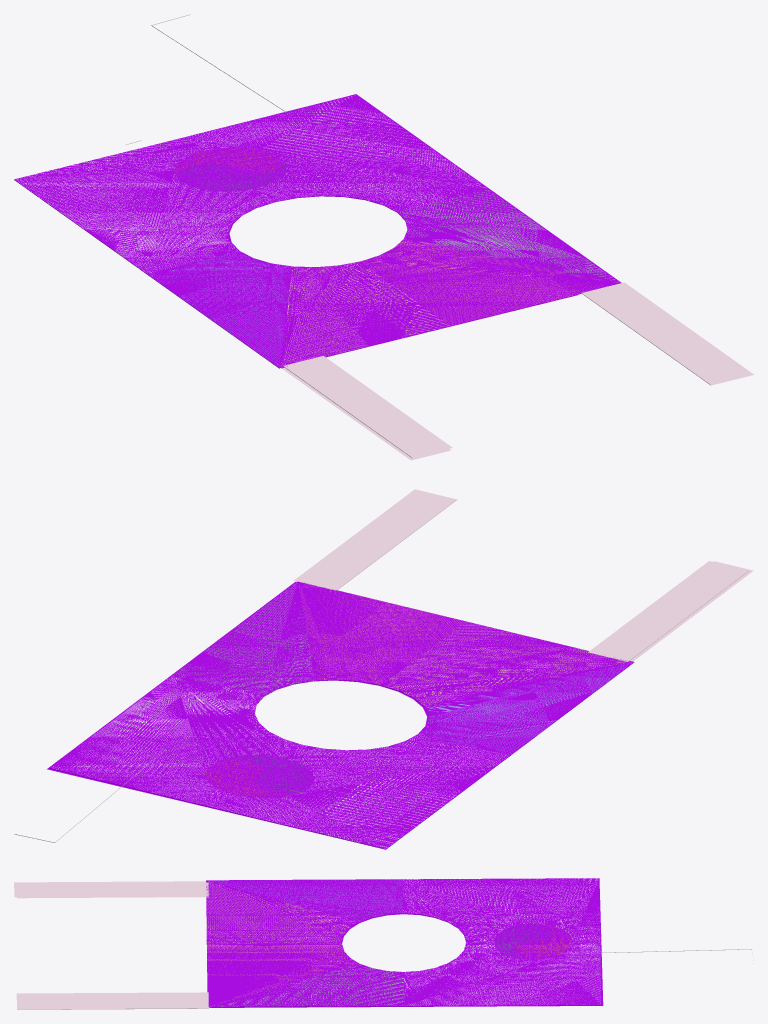
The model's file is kite_8.dae.
3 views of the same model, one above another, from view 1: azimuth 30°, elevation 25°; view 2: azimuth 150°, elevation 25°; view 3: azimuth 270°, elevation 25° (orthographic). The views are drawn at different scales.
Visible parts, largest first — view 1: Body.005, Body, Body.008, Body.006, Body.004, group_2, group_0.002, Body.003, group_3, SketchUp.001; view 2: Body.005, Body, Body.008, Body.004, Body.006, group_2, group_0.002, group_3, Body.003, SketchUp.001, Body.001; view 3: Body.005, Body.008, Body, Body.006, Body.004, group_2, group_0.002, Body.003, group_3, SketchUp.001, Body.001, SketchUp.002.
Boxes of the visible parts, left/top/right/bottom form: Body.005: left=14, top=95, right=488, bottom=273; Body: left=360, top=239, right=619, bottom=325; Body.008: left=279, top=261, right=449, bottom=367; Body.006: left=397, top=189, right=620, bottom=283; Body.004: left=147, top=251, right=291, bottom=367; group_2: left=582, top=282, right=753, bottom=385; group_0.002: left=283, top=356, right=452, bottom=457; Body.003: left=177, top=160, right=285, bottom=191; group_3: left=174, top=147, right=282, bottom=178; SketchUp.001: left=187, top=94, right=621, bottom=368; Body.005: left=50, top=674, right=509, bottom=849; Body: left=298, top=581, right=465, bottom=685; Body.008: left=382, top=621, right=633, bottom=707; Body.004: left=420, top=662, right=633, bottom=755; Body.006: left=174, top=581, right=314, bottom=695; group_2: left=293, top=489, right=457, bottom=590; group_0.002: left=588, top=561, right=748, bottom=661; group_3: left=206, top=760, right=303, bottom=798; Body.003: left=216, top=755, right=314, bottom=793; SketchUp.001: left=47, top=582, right=428, bottom=840; Body.001: left=50, top=662, right=634, bottom=849; Body.005: left=403, top=878, right=600, bottom=1005; Body.008: left=206, top=880, right=358, bottom=943; Body: left=207, top=943, right=358, bottom=1006; Body.006: left=209, top=963, right=404, bottom=1006; Body.004: left=207, top=879, right=403, bottom=921; group_2: left=16, top=992, right=208, bottom=1009; group_0.002: left=16, top=882, right=208, bottom=898; Body.003: left=494, top=923, right=552, bottom=959; group_3: left=514, top=924, right=571, bottom=960; SketchUp.001: left=209, top=889, right=603, bottom=1007; Body.001: left=209, top=1005, right=600, bottom=1007; SketchUp.002: left=14, top=881, right=205, bottom=897.
Bounding box in the file's own units: 6.26 × 14.92 × 0.3861.
